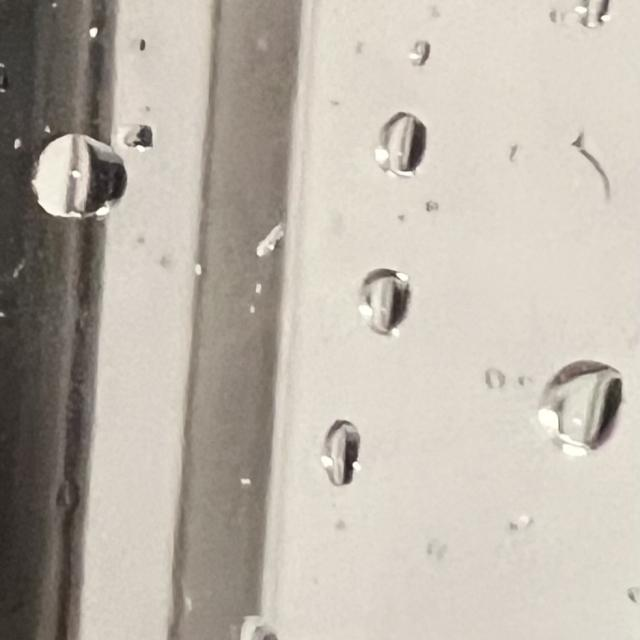raindrop: (32, 126, 132, 234), (540, 347, 616, 467), (348, 264, 424, 348), (310, 413, 367, 498), (372, 116, 438, 188), (111, 115, 170, 171), (390, 33, 445, 78), (469, 354, 517, 405), (558, 0, 618, 35)
